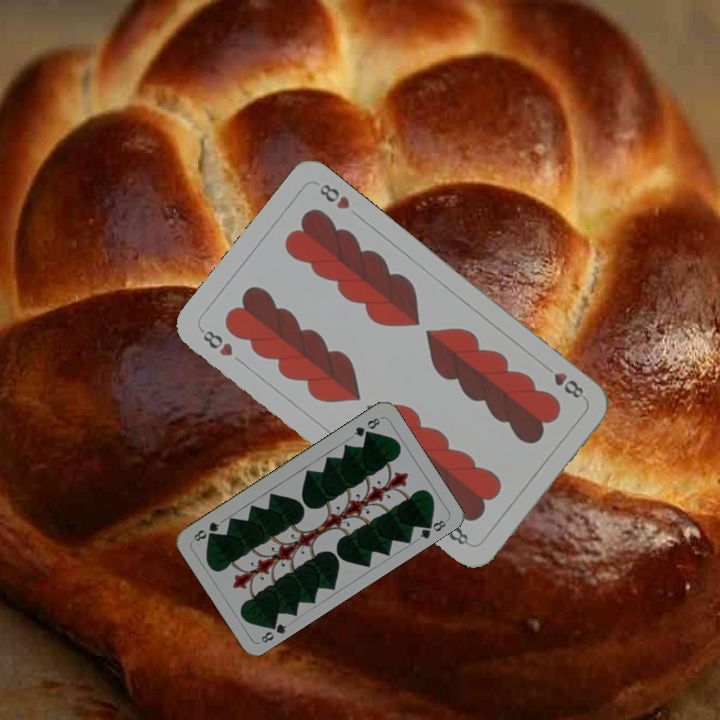G8: (257, 616, 290, 646), (350, 414, 383, 439)
H8: (539, 360, 587, 401), (196, 324, 236, 359)
